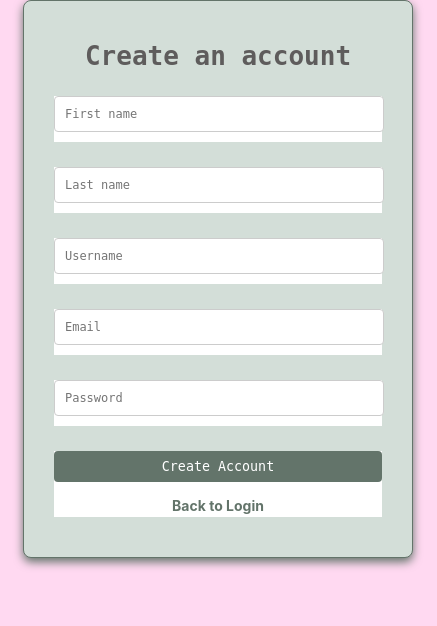
Test: CreateAccount Component › submits form successfully with valid data
# Fill out the form
Step 1. Type "John" into the field with placeholder "First name" → {"x": 219, "y": 114}, box x1=54 y1=96 x2=384 y2=132
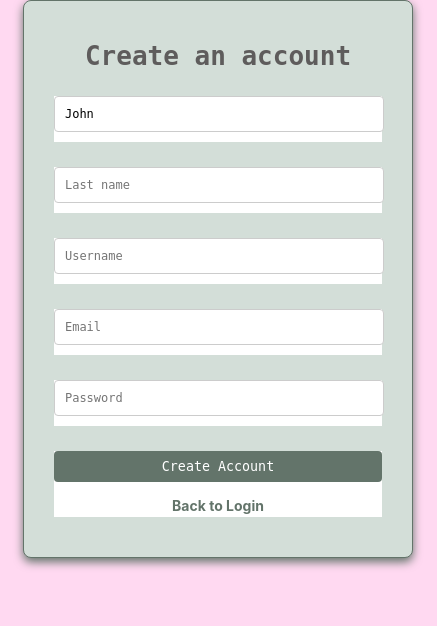
Step 2. Type "Doe" into the field with placeholder "Last name" → {"x": 219, "y": 185}, box x1=54 y1=167 x2=384 y2=203
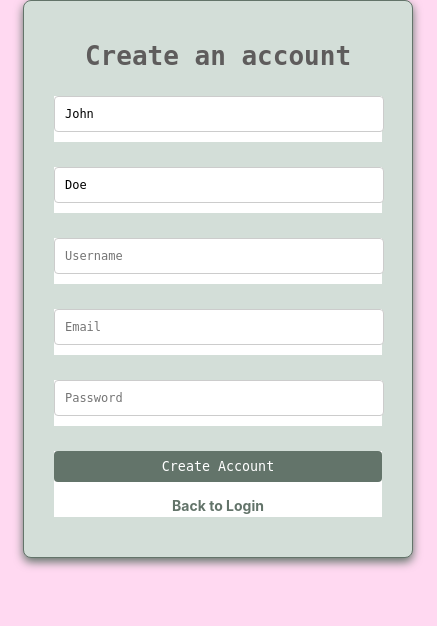
Step 3. Type "johndoe" into the field with placeholder "Username" → {"x": 219, "y": 256}, box x1=54 y1=238 x2=384 y2=274
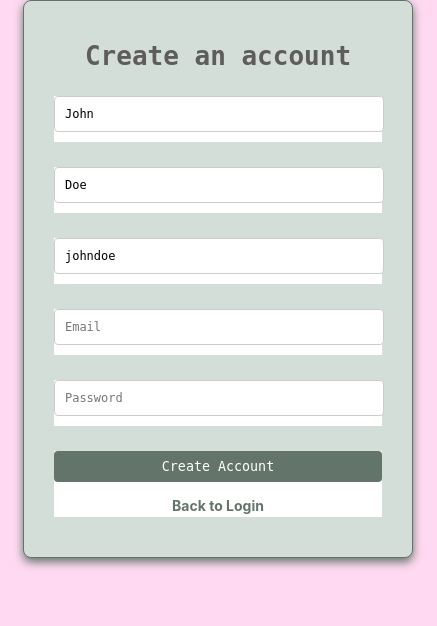
Step 4. Type "john@example.com" into the field with placeholder "Email" → {"x": 219, "y": 327}, box x1=54 y1=309 x2=384 y2=345
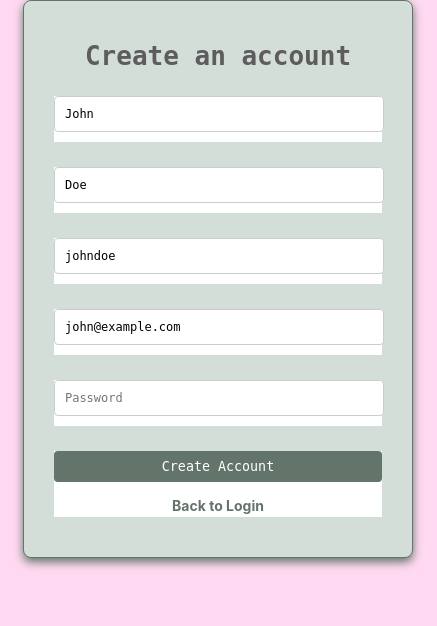
Step 5. Type "password123" into the password field with placeholder "Password" → {"x": 219, "y": 398}, box x1=54 y1=380 x2=384 y2=416
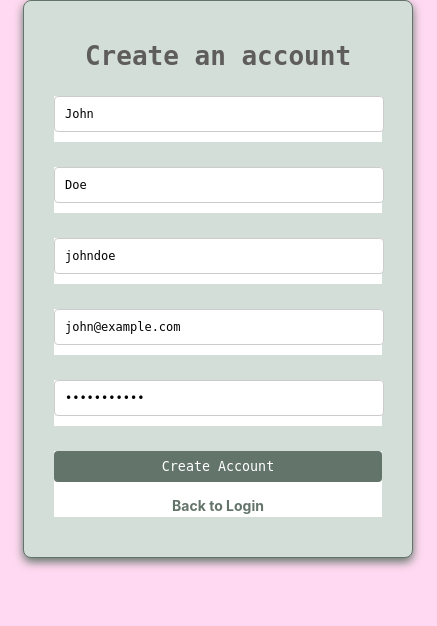
Step 6. Click the button "Create Account" → {"x": 218, "y": 466}, box x1=54 y1=451 x2=382 y2=482
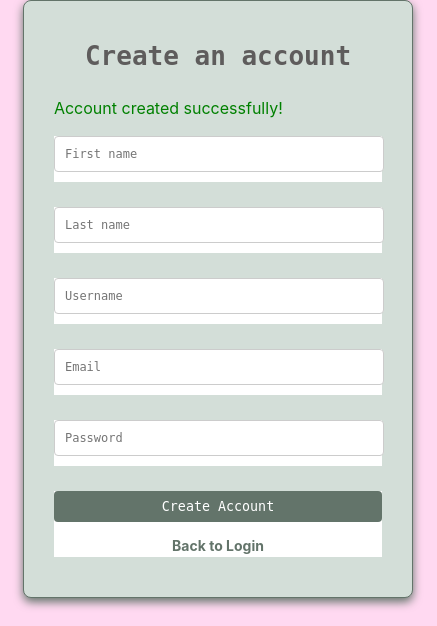
Result: the text "Account created successfully!" is shown at x1=54 y1=98 x2=283 y2=118
